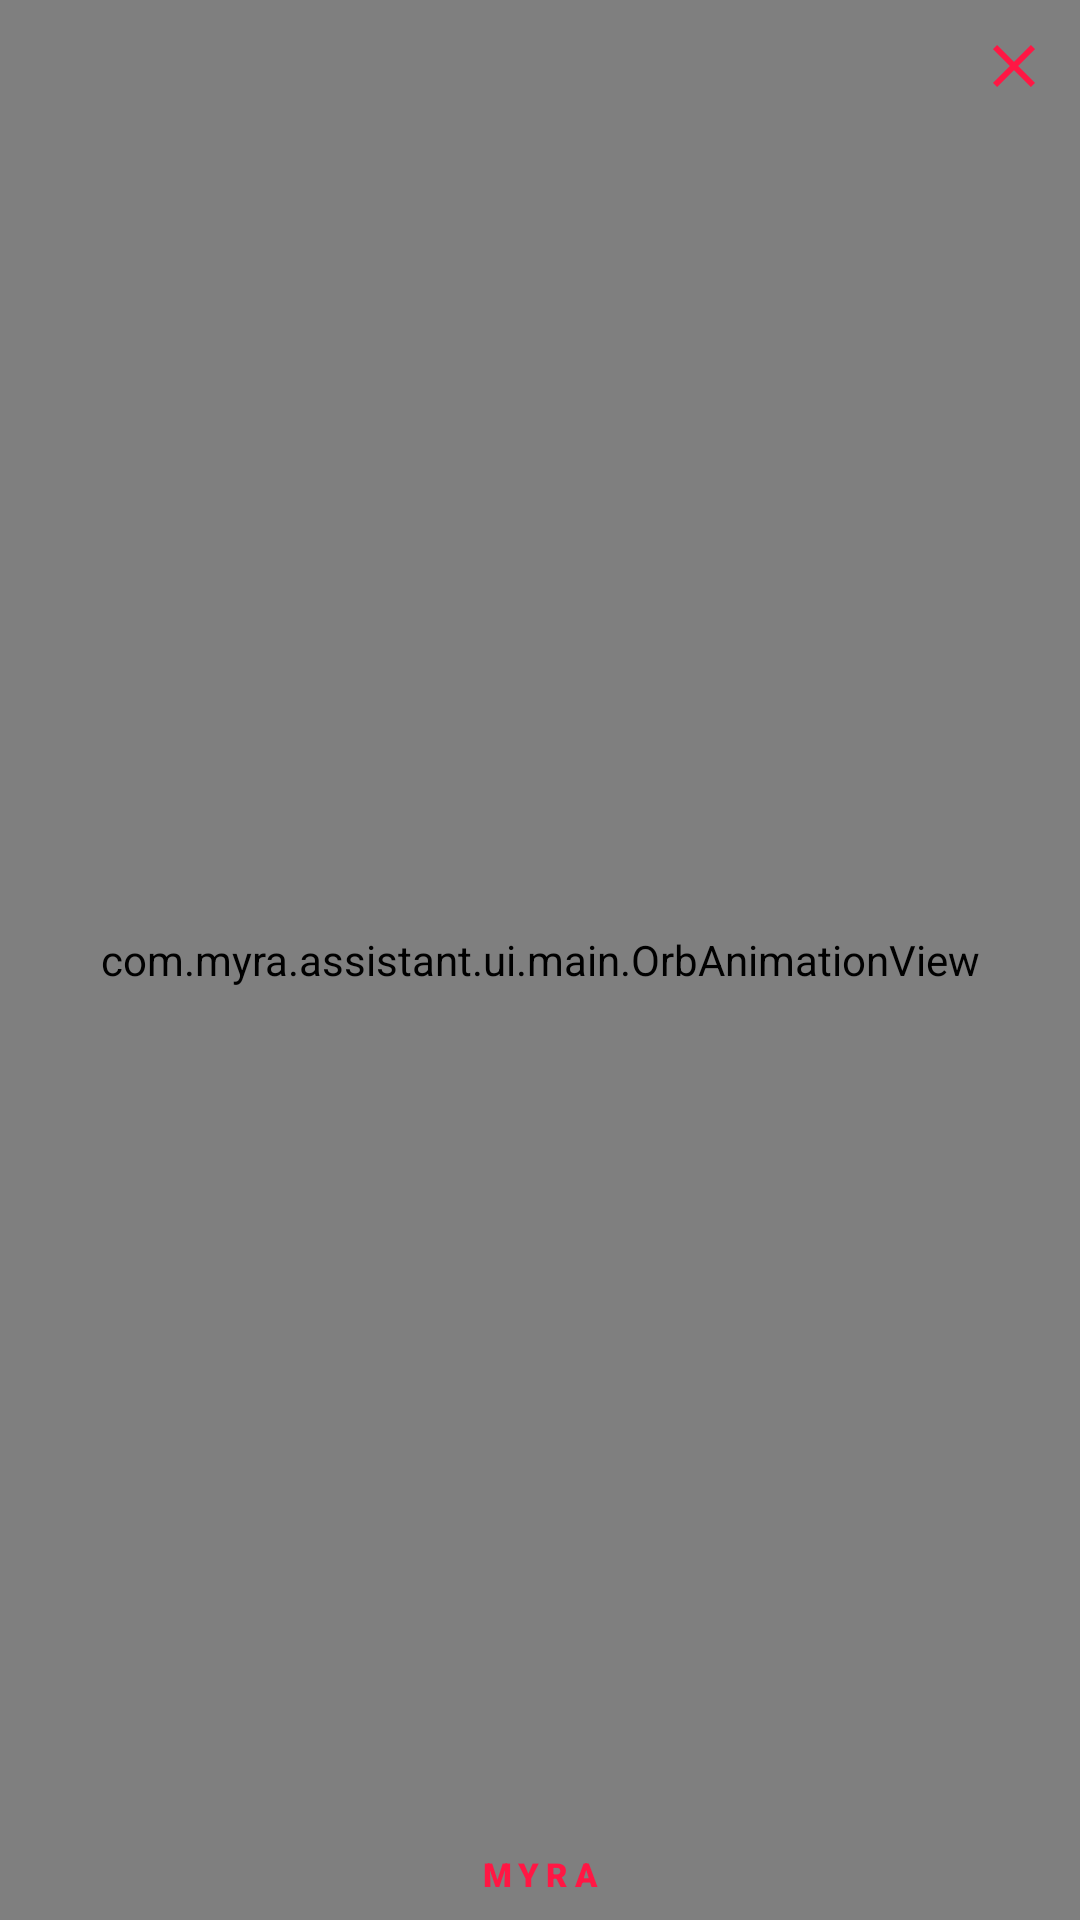

Screen size 1080 x 1920. Icon name, then its box in pixels as (x1, y1, x2, y2):
Close overlay: (993, 45, 1035, 87)
